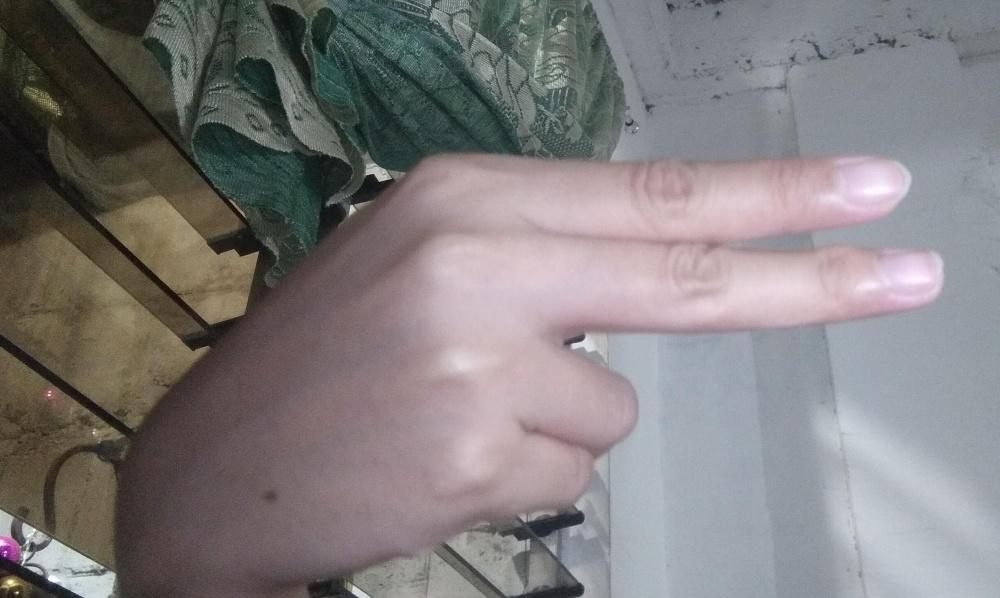h: (110, 149, 948, 583)
